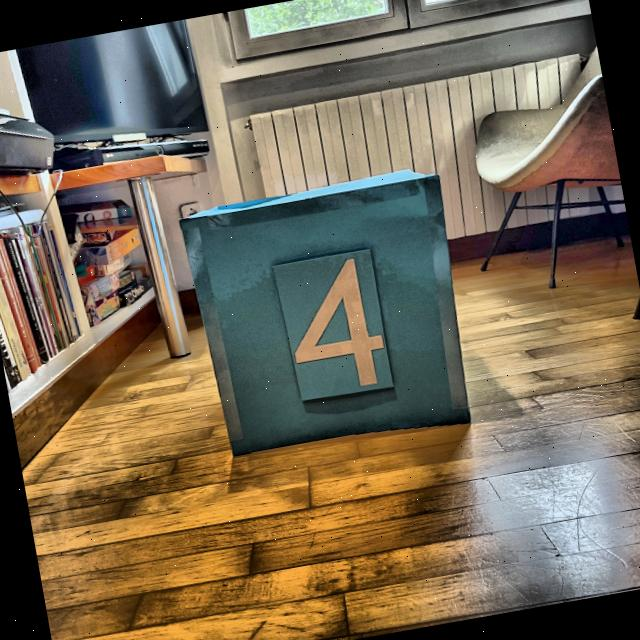blue box: (175, 162, 478, 469)
four: (282, 252, 393, 398)
